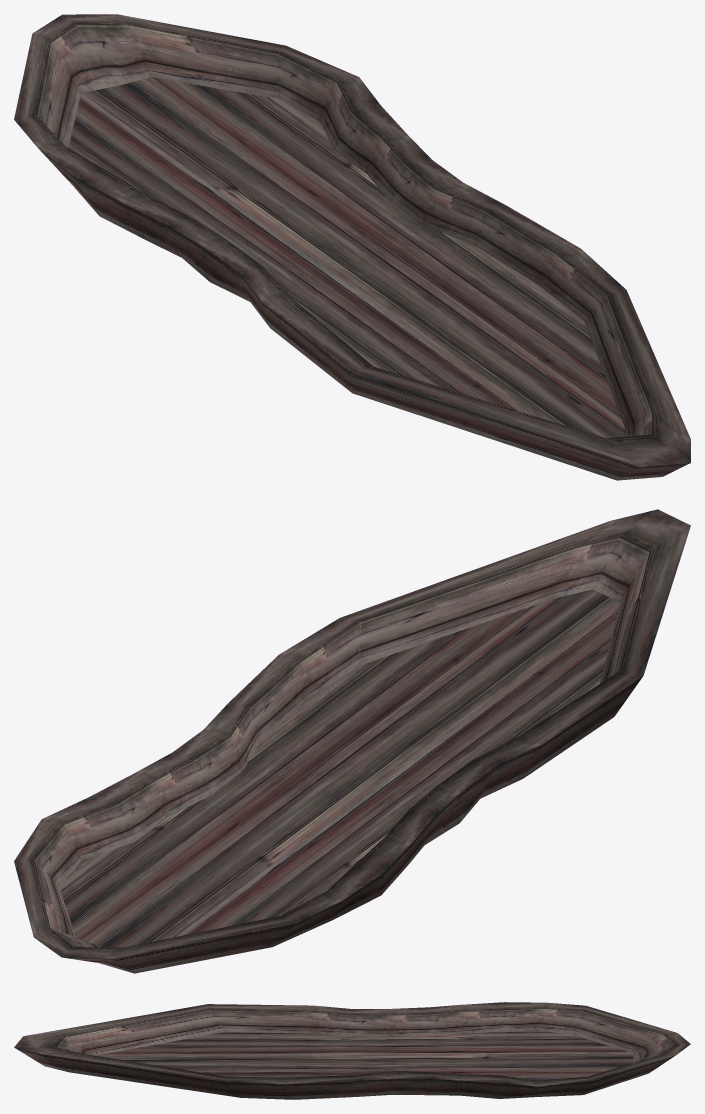
Rendered from swamp_boat.fbx.
3 views of the same model, one above another, from view 1: azimuth 30°, elevation 25°; view 2: azimuth 150°, elevation 25°; view 3: azimuth 270°, elevation 25° (orthographic). The views are drawn at different scales.
Visible parts, largest first — view 1: lod_high, loftedSurface1; view 2: lod_high, loftedSurface1; view 3: loftedSurface1, lod_high.
Boxes of the visible parts, box(x1,y1,x2,y2) form: lod_high: box(68, 77, 624, 437); loftedSurface1: box(14, 14, 690, 480); lod_high: box(59, 589, 619, 947); loftedSurface1: box(14, 509, 690, 973); loftedSurface1: box(14, 1002, 690, 1099); lod_high: box(96, 1030, 634, 1080).
Size of the model in its own units: 1167 by 122 by 3947.
1 material, 1 textured.
